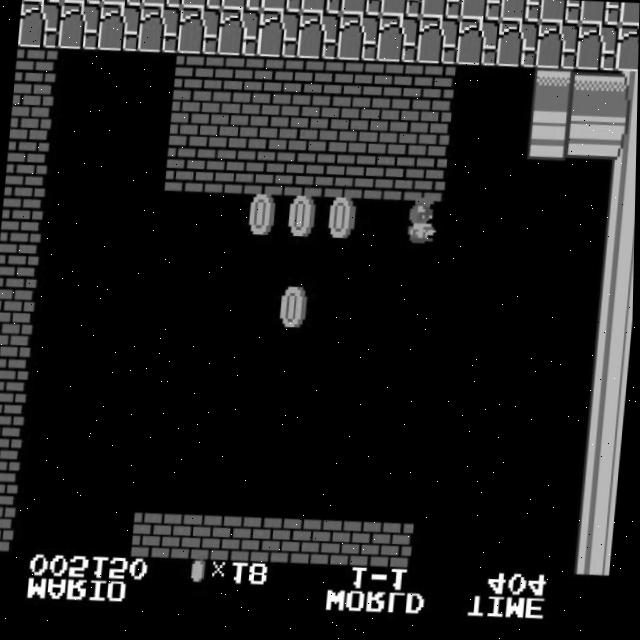1- brick_block: (212, 54, 257, 105), (133, 509, 178, 559), (168, 98, 213, 148), (208, 100, 253, 150), (212, 513, 257, 563), (248, 102, 293, 152), (252, 57, 297, 107), (252, 515, 297, 565), (288, 104, 333, 154), (292, 58, 337, 108), (292, 517, 337, 567), (328, 106, 373, 156), (332, 60, 377, 110), (332, 519, 377, 569), (372, 62, 417, 112), (372, 521, 417, 571), (411, 64, 456, 114), (244, 148, 289, 197), (284, 150, 329, 199), (324, 152, 369, 201), (364, 154, 409, 203), (404, 156, 449, 205), (1, 183, 45, 233), (13, 46, 57, 96), (173, 53, 217, 103), (173, 511, 217, 561), (368, 107, 412, 157), (408, 109, 452, 159), (6, 138, 50, 187), (165, 145, 209, 194), (205, 147, 249, 196), (10, 92, 53, 141), (0, 228, 41, 278), (0, 274, 37, 323), (0, 319, 33, 369), (0, 365, 30, 415), (0, 411, 25, 460), (0, 457, 21, 506), (0, 502, 17, 552)
11- little_mario: (397, 198, 444, 250)
14- pipe: (567, 117, 612, 167), (571, 71, 616, 121), (586, 348, 631, 398), (574, 485, 619, 534), (578, 439, 623, 488), (571, 530, 615, 580), (583, 393, 627, 443), (590, 302, 634, 351), (594, 256, 635, 306), (598, 210, 636, 260), (602, 165, 637, 214), (606, 120, 638, 169), (610, 74, 638, 124)
15- pipe_head: (527, 115, 572, 165), (531, 70, 576, 120)
17- undestructible_block: (256, 10, 301, 61), (535, 23, 580, 74), (57, 1, 102, 51), (136, 5, 181, 55), (176, 7, 221, 57), (216, 8, 261, 58), (296, 13, 341, 63), (336, 14, 381, 64), (376, 16, 421, 66), (416, 18, 461, 68), (495, 21, 540, 71), (575, 26, 620, 76), (97, 3, 141, 53), (456, 20, 500, 70), (18, 0, 61, 50), (614, 28, 639, 78), (539, 1, 582, 28), (579, 3, 622, 30), (499, 0, 542, 26), (459, 0, 502, 24), (419, 0, 463, 22), (379, 0, 423, 21), (340, 0, 383, 19), (300, 0, 343, 17), (260, 0, 303, 15), (618, 6, 640, 32), (220, 0, 263, 13), (180, 0, 223, 11), (140, 0, 183, 9), (100, 0, 143, 8), (60, 0, 103, 6)
2- coin: (240, 193, 285, 243), (272, 287, 317, 337), (280, 195, 325, 245), (320, 197, 365, 247)
